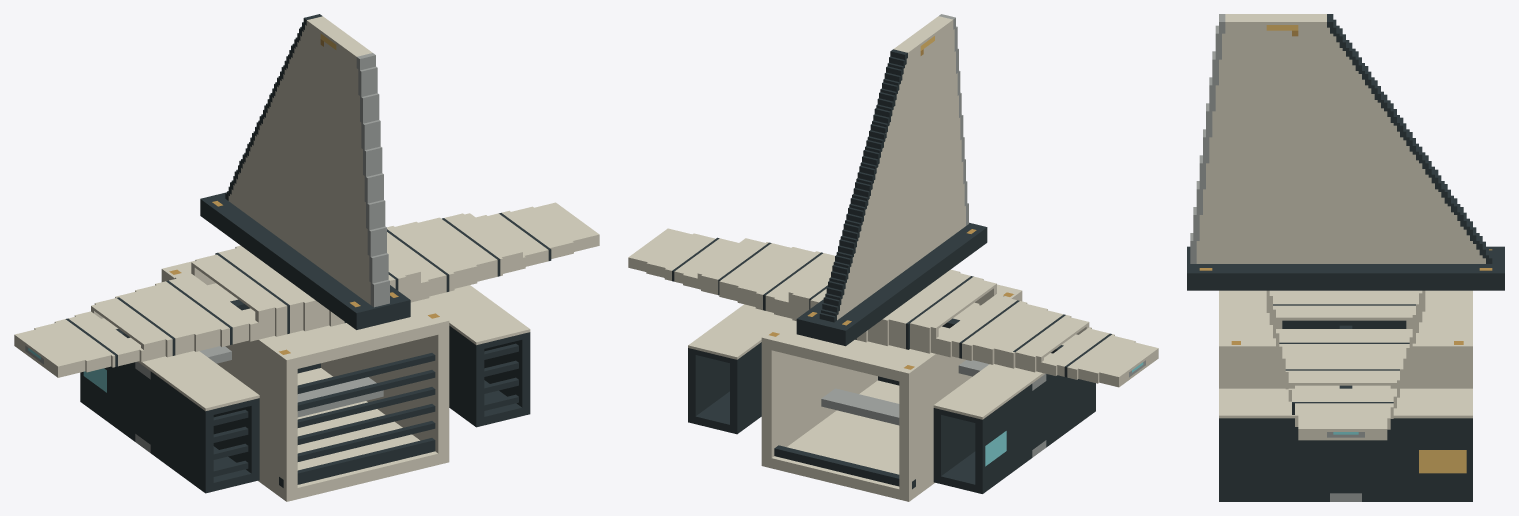
3 renders of one model, left to right at view 1: azimuth 30°, elevation 25°; view 2: azimuth 150°, elevation 25°; view 3: azimuth 270°, elevation 25°, orthographic. The views are drawn at different scales.
Parts seen in each view (by area): view 1: 勤务飞机动力/暗色进出气体, 勤务飞机垂尾, 勤务飞机水平尾翼; view 2: 勤务飞机动力/暗色进出气体, 勤务飞机垂尾, 勤务飞机水平尾翼; view 3: 勤务飞机垂尾, 勤务飞机动力/暗色进出气体, 勤务飞机水平尾翼.
Part boxes in pixels (x1,y1,x2,y2): 勤务飞机动力/暗色进出气体: (80,260,530,501); 勤务飞机垂尾: (200,14,410,329); 勤务飞机水平尾翼: (14,202,599,377); 勤务飞机动力/暗色进出气体: (688,284,1095,501); 勤务飞机垂尾: (796,14,987,346); 勤务飞机水平尾翼: (628,228,1158,387); 勤务飞机垂尾: (1187,14,1504,290); 勤务飞机动力/暗色进出气体: (1219,290,1472,501); 勤务飞机水平尾翼: (1266,290,1425,440).
Size of the model in its own units: 4 by 3 by 2.
6 materials, 6 textured.
